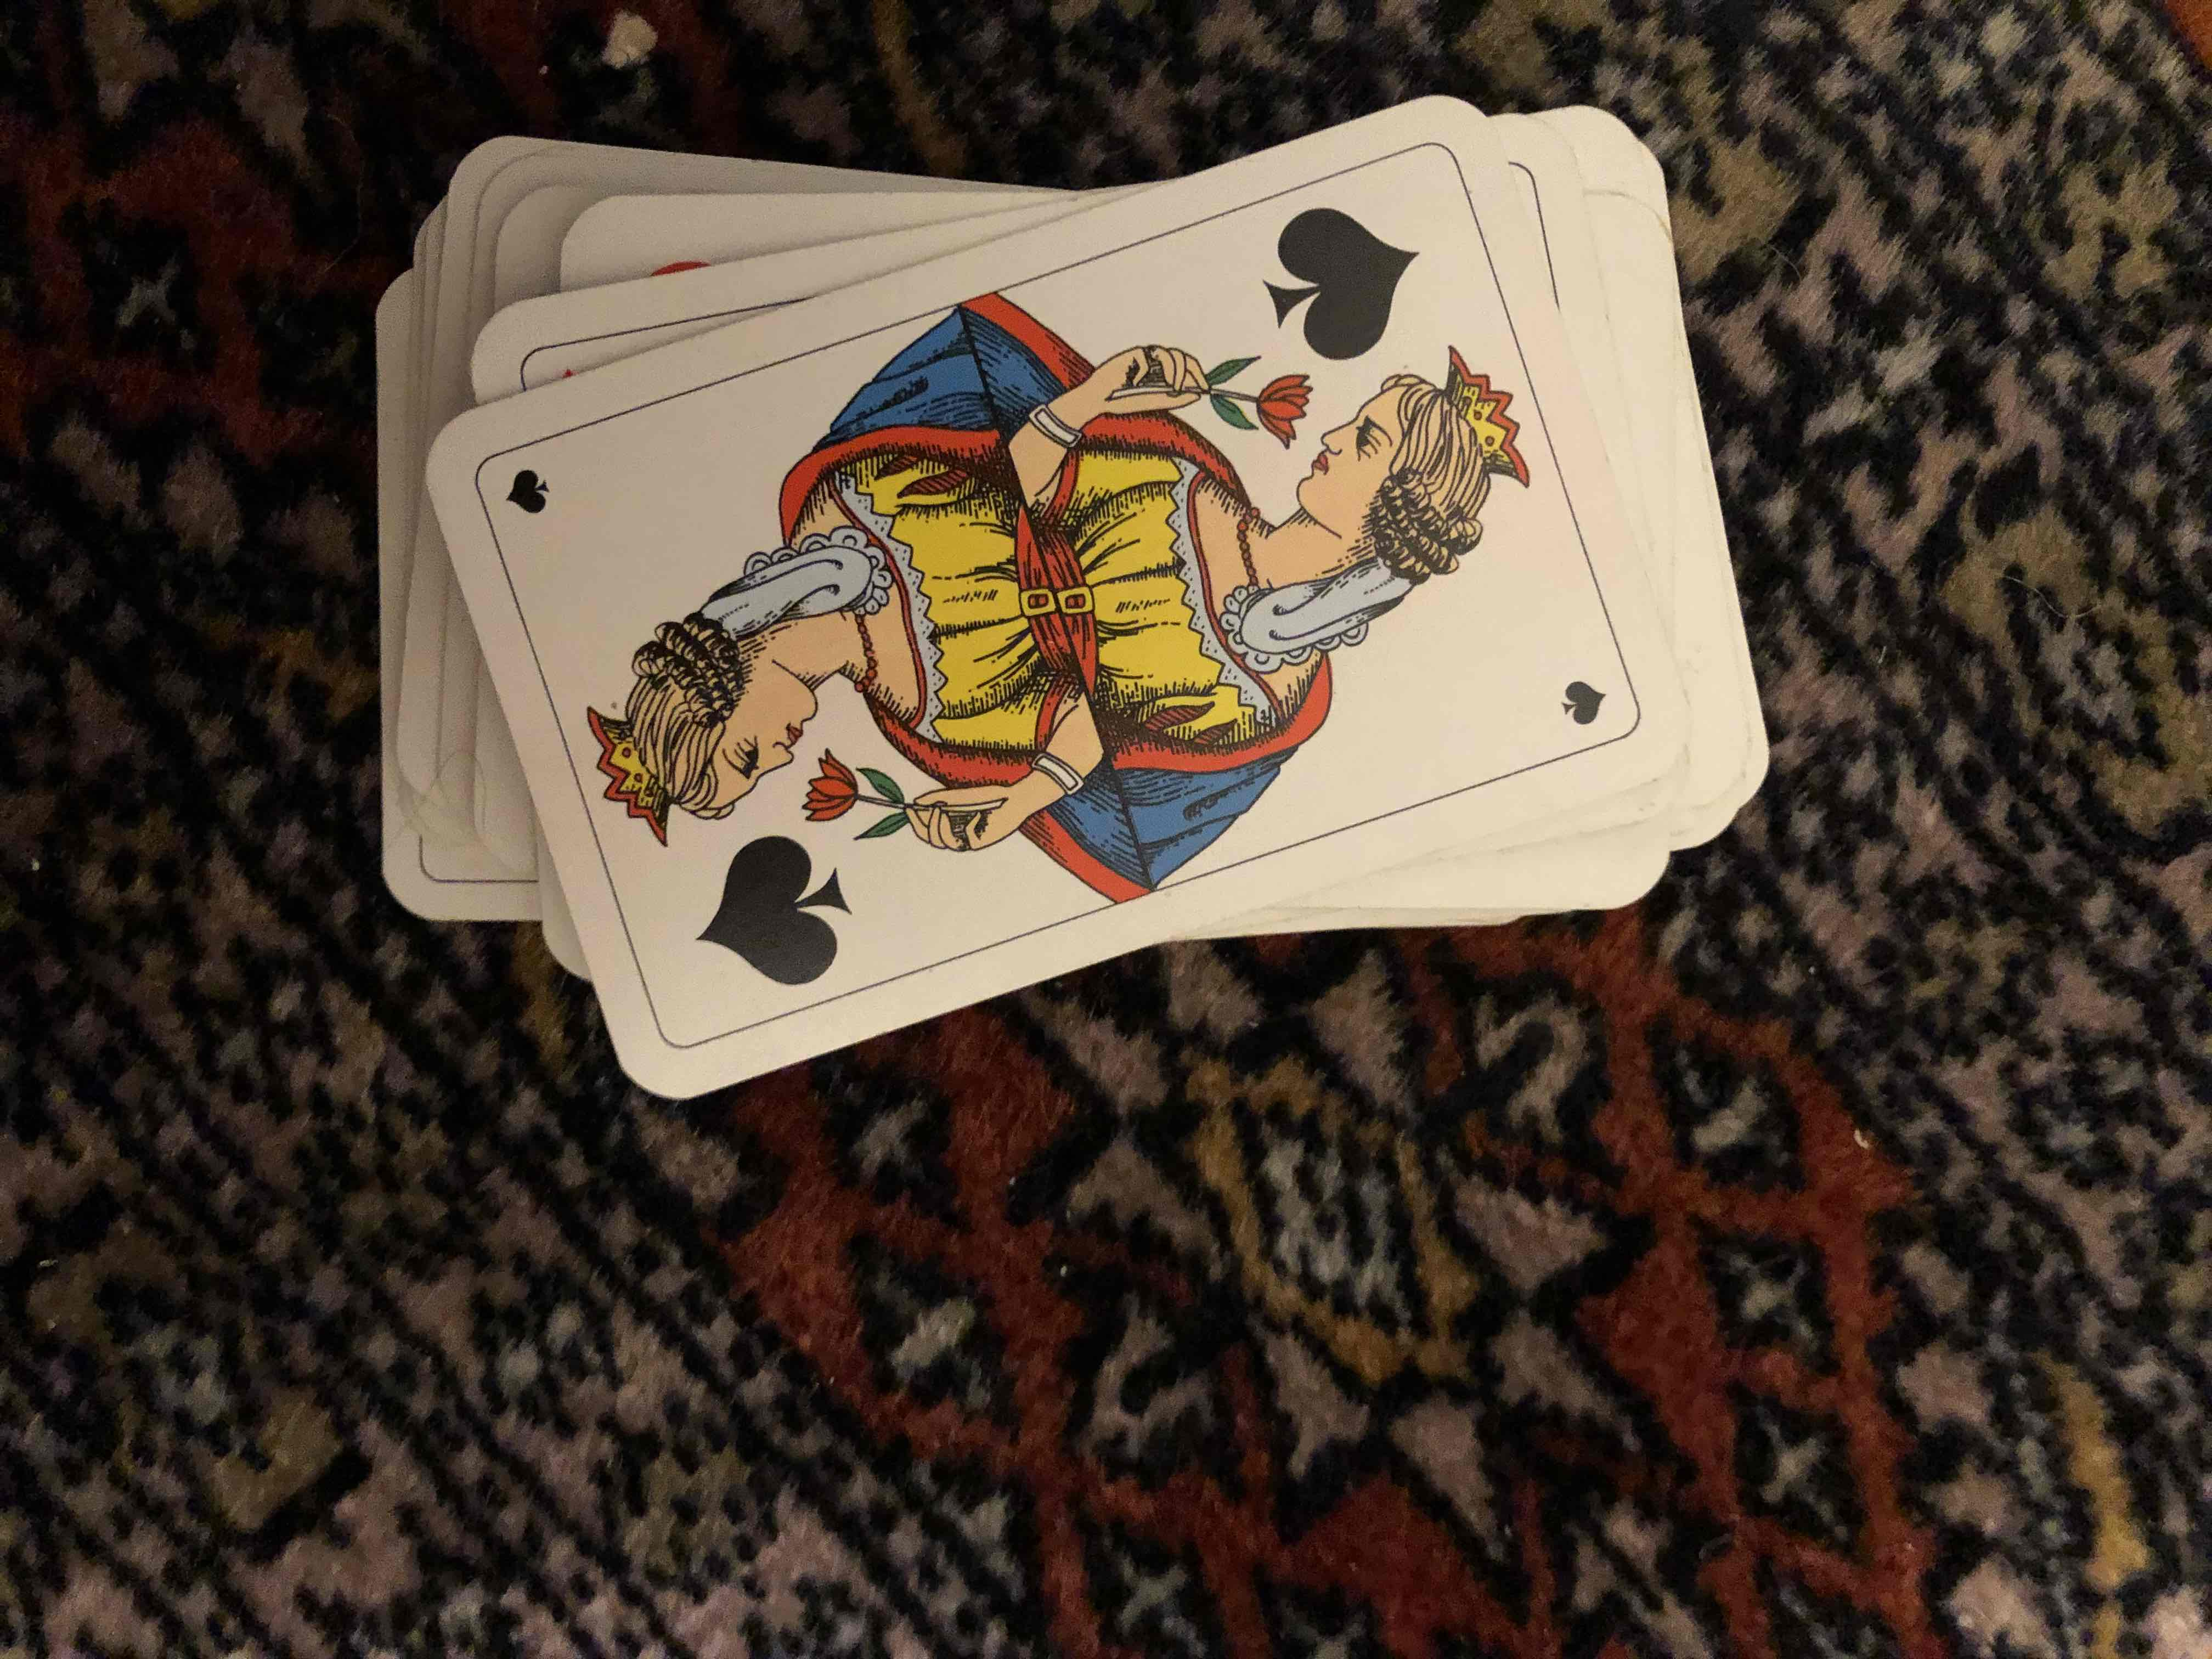spadesQueen: (408, 181, 1768, 1012)
